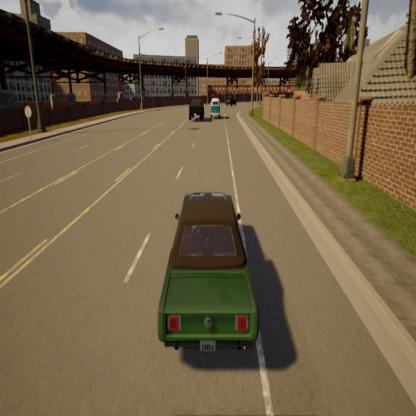Cars: (144, 162, 261, 372), (187, 89, 206, 125), (206, 87, 223, 122), (225, 92, 240, 110)
